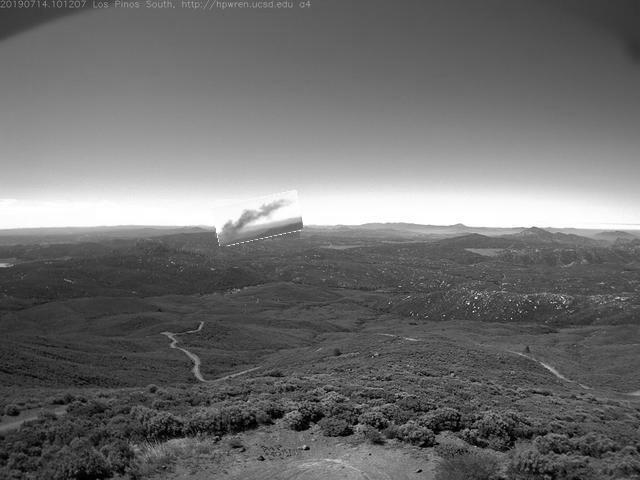smoke: (215, 196, 304, 244)
